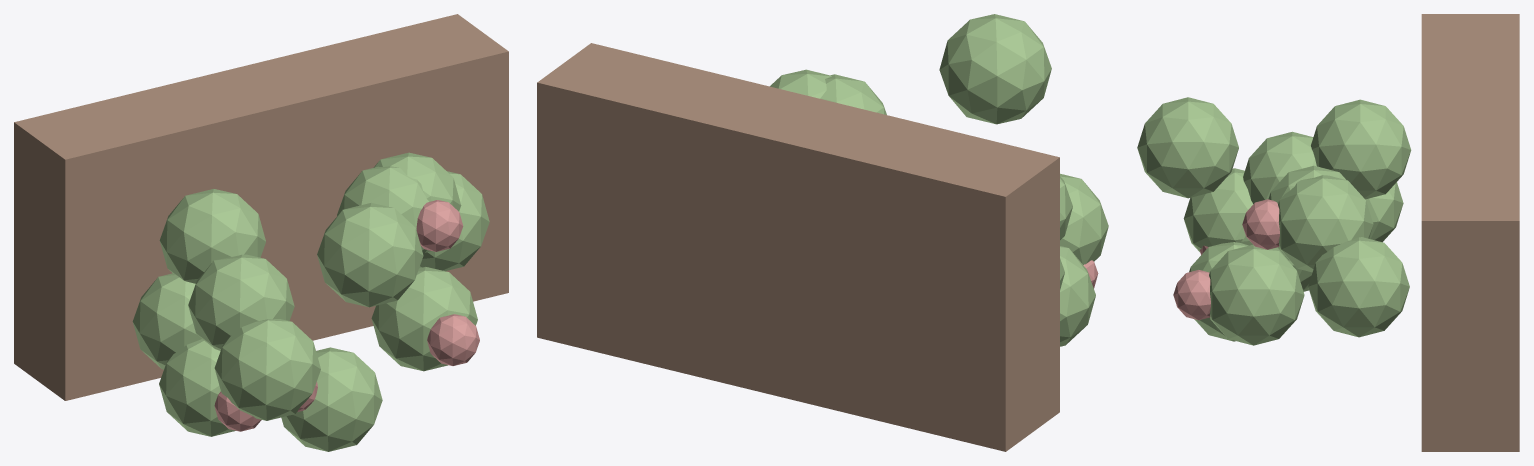
Rendered from hedge.glb.
3 renders of one model, left to right at view 1: azimuth 30°, elevation 25°; view 2: azimuth 150°, elevation 25°; view 3: azimuth 270°, elevation 25°, orthographic. The views are drawn at different scales.
Parts seen in each view (by area): view 1: wood, leaf2, salmon; view 2: wood, leaf2; view 3: leaf2, wood, salmon.
Boxes of the visible parts, box(x1,y1,x2,y2) form: wood: box(14, 14, 508, 400); leaf2: box(132, 152, 489, 451); salmon: box(214, 200, 479, 431); wood: box(537, 43, 1059, 451); leaf2: box(770, 14, 1108, 346); leaf2: box(1137, 97, 1411, 345); wood: box(1421, 14, 1519, 451); salmon: box(1173, 199, 1279, 320).
Bounding box in the file's own units: 2.5 × 1.38 × 1.95.
